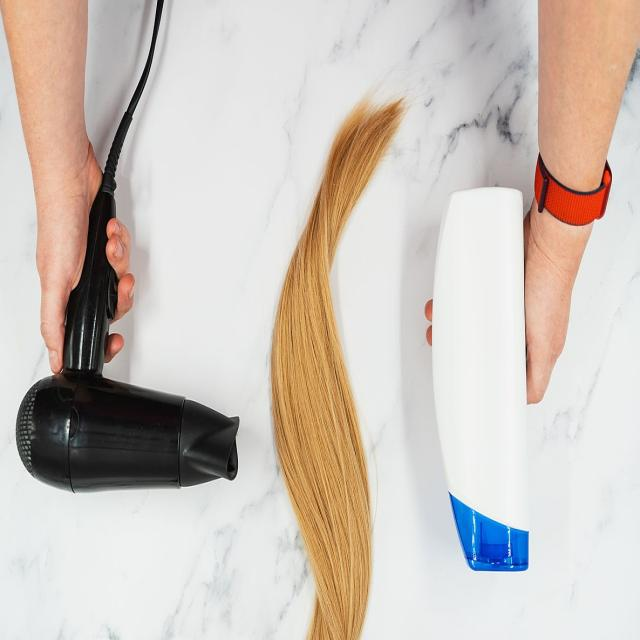dryer: (14, 116, 241, 497)
